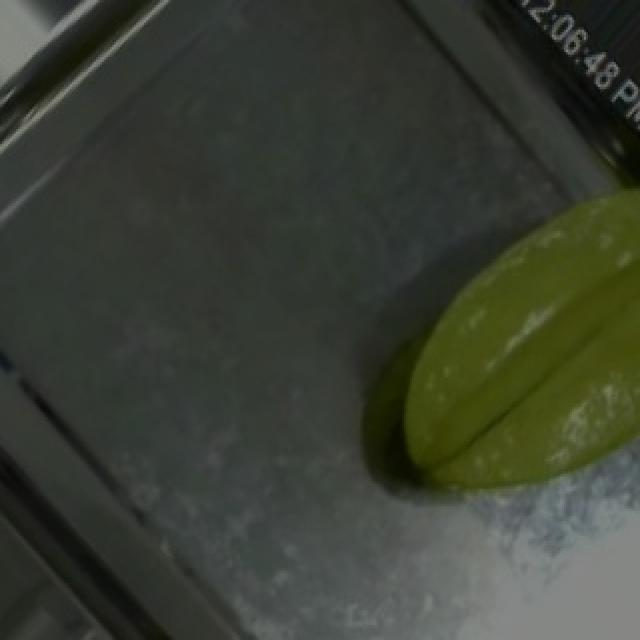fruit: (370, 129, 640, 513)
